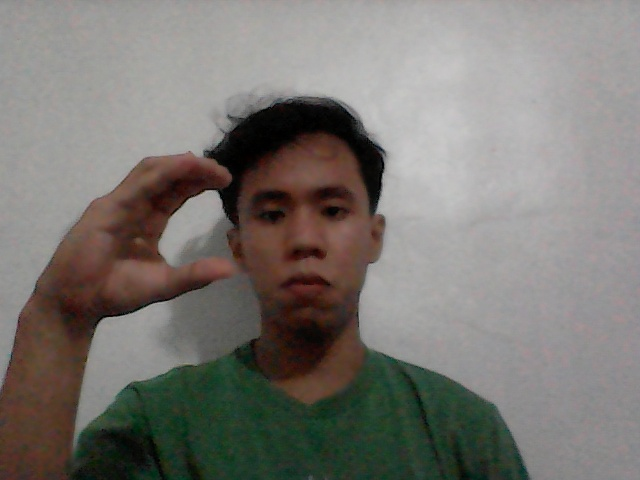C: (32, 128, 244, 350)
